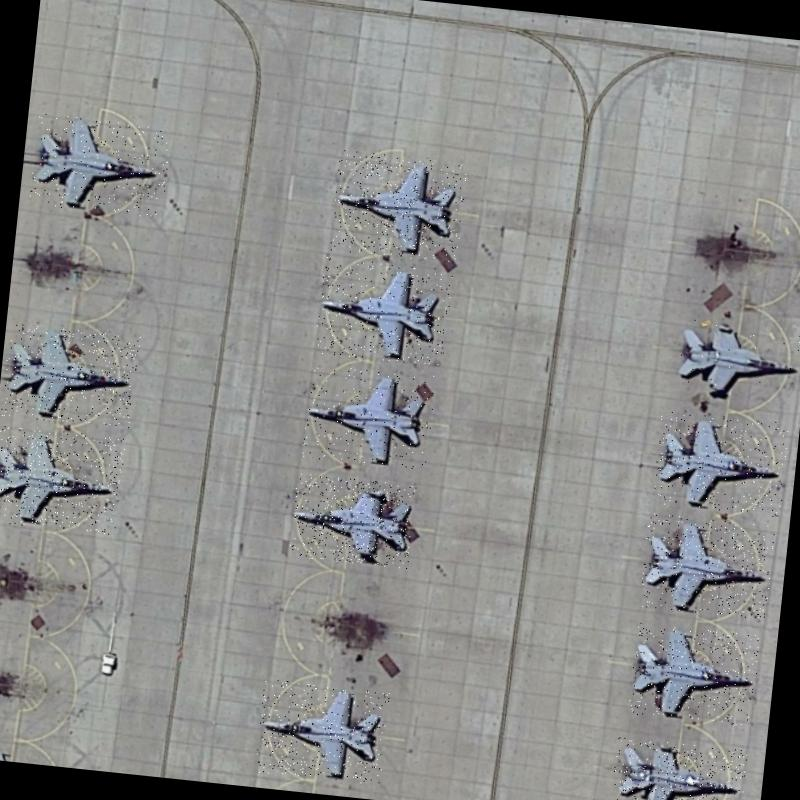A16: (329, 150, 467, 264), (29, 112, 172, 218), (314, 257, 453, 366), (652, 410, 790, 518), (0, 323, 140, 429), (638, 512, 775, 620), (300, 362, 436, 470), (254, 678, 390, 785), (0, 424, 126, 535), (628, 622, 760, 726), (288, 472, 416, 568), (671, 315, 800, 405), (609, 736, 747, 800)
